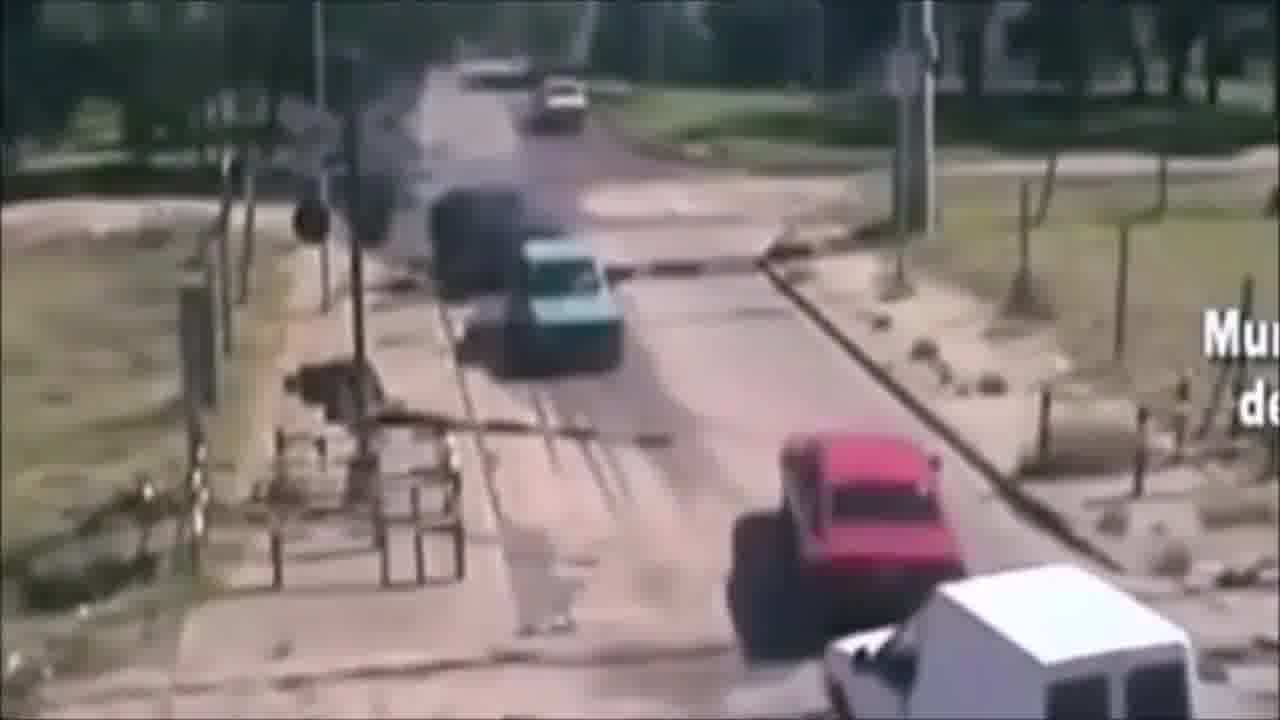crossing railway track: (729, 384, 1033, 713)
